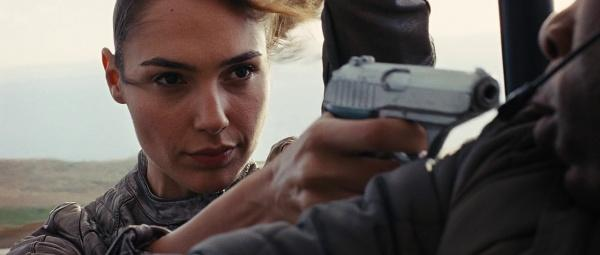Gun: (321, 54, 501, 161)
